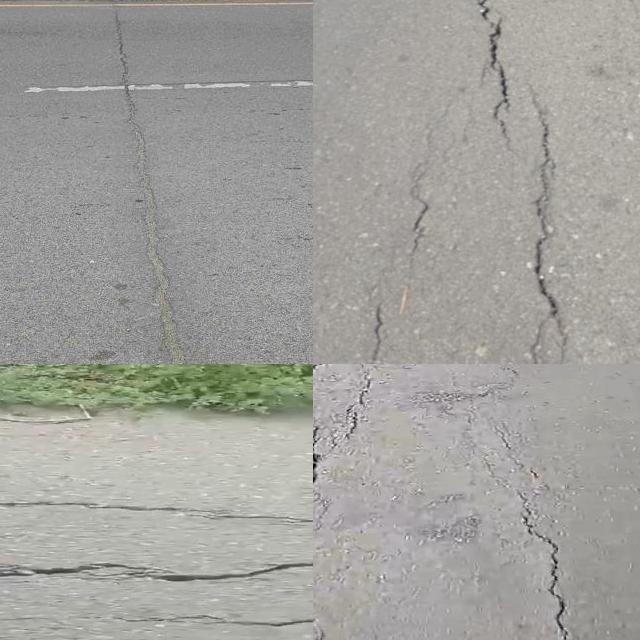Melintang: (0, 546, 313, 596), (0, 488, 313, 535), (138, 606, 313, 637)
Memanjang: (73, 9, 203, 364), (521, 75, 571, 349), (506, 481, 591, 640), (467, 0, 521, 150)
